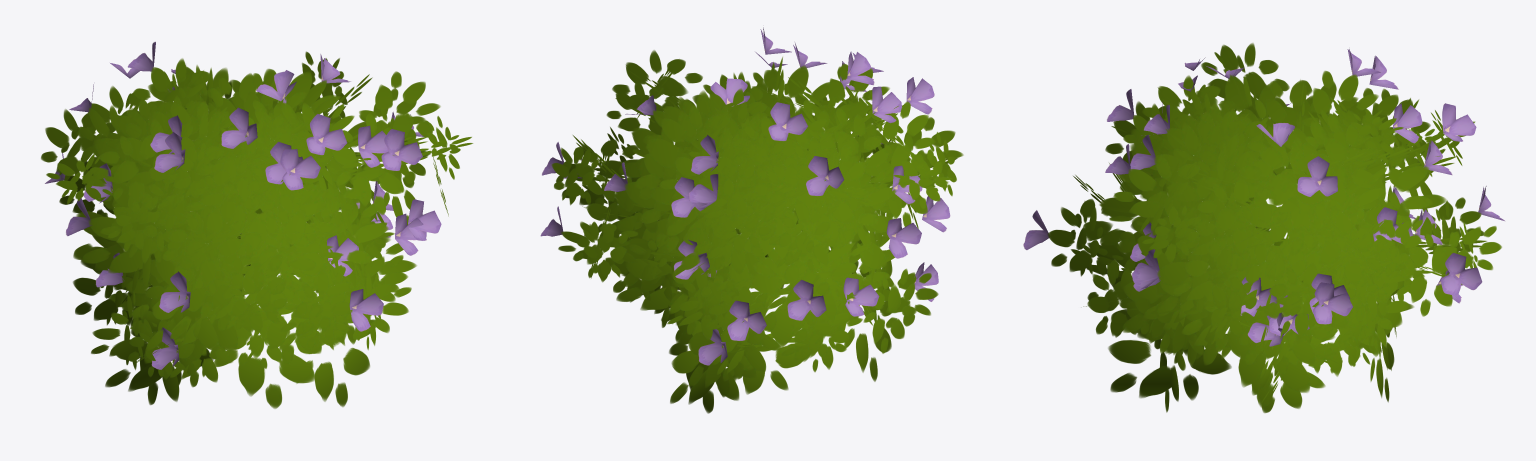
The model's file is bush-flowers.glb.
The picture shows the model from 3 angles, left to right: view 1: azimuth 30°, elevation 25°; view 2: azimuth 150°, elevation 25°; view 3: azimuth 270°, elevation 25°; orthographic projection. The views are drawn at different scales.
Visible parts, largest first — view 1: Bush_Common_Flowers; view 2: Bush_Common_Flowers; view 3: Bush_Common_Flowers.
Part boxes in pixels (x1,y1,x2,y2): Bush_Common_Flowers: (41,41,473,408); Bush_Common_Flowers: (540,27,963,413); Bush_Common_Flowers: (1023,43,1504,412).
Bounding box in the file's own units: 1.91 × 1.58 × 1.97.
Materials: 2 (2 with a texture image).
